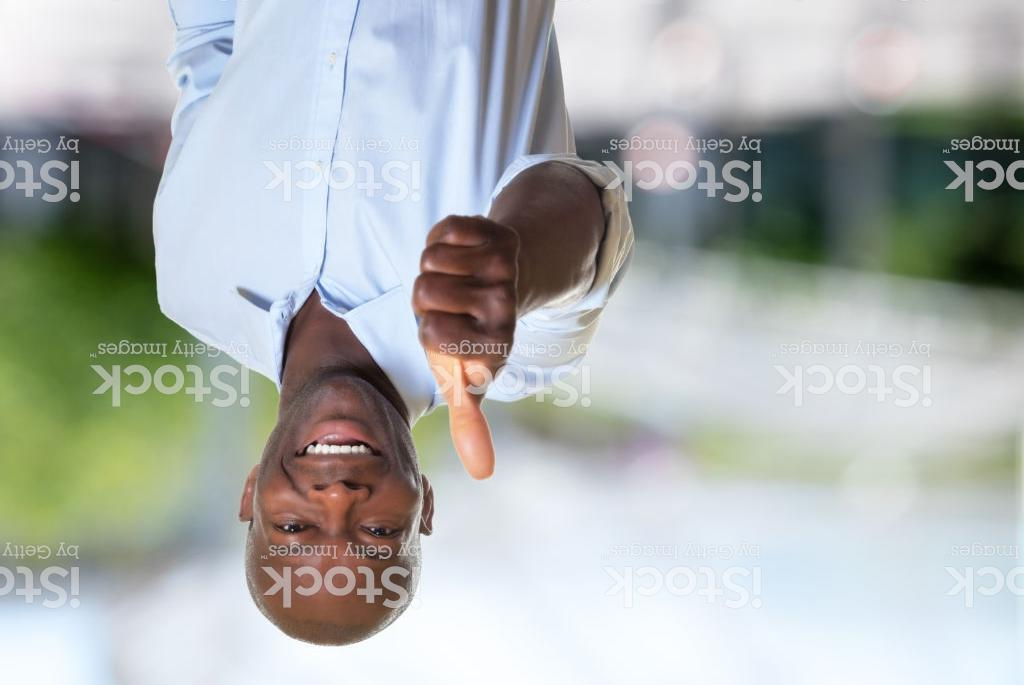thumbsdown: (408, 213, 521, 482)
